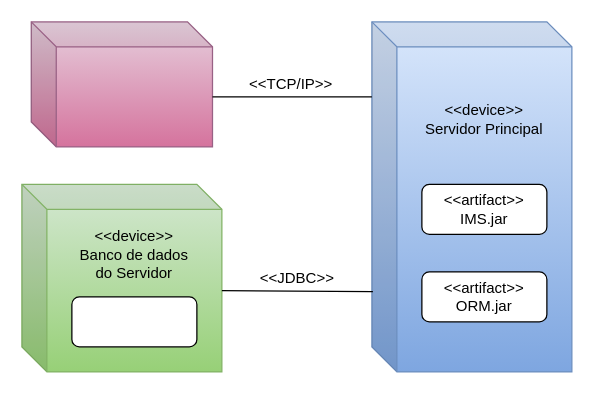
Image size: 594x394. Some labels were removed from this diagram. Each missing label, with the centre of its shape:
"<<artifact>> My SQL server" goes at pixel 134 321.
"<<device>> Aplicativo Desktop do Usuário" goes at pixel 121 84.
